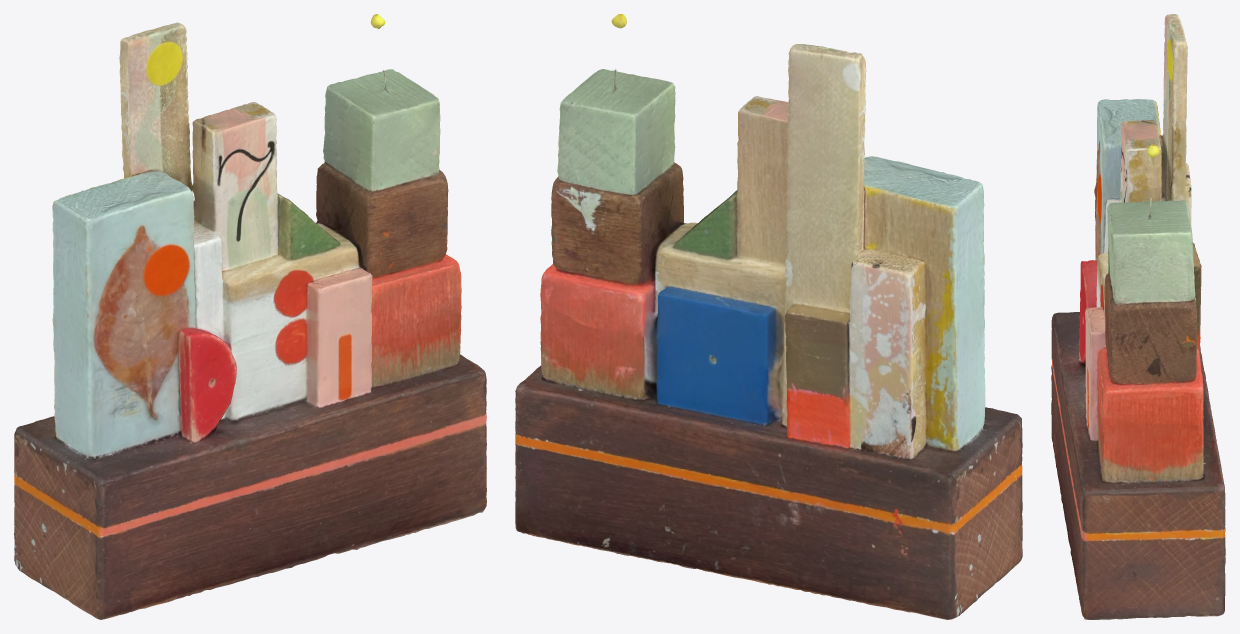
The model's file is Kompleks_07.glb.
3 renders of one model, left to right at view 1: azimuth 30°, elevation 25°; view 2: azimuth 150°, elevation 25°; view 3: azimuth 270°, elevation 25°, orthographic. The views are drawn at different scales.
Parts seen in each view (by area): view 1: Geom; view 2: Geom; view 3: Geom.
Part boxes in pixels (x1,y1,x2,y2): Geom: (14,14,486,619); Geom: (515,14,1022,619); Geom: (1051,14,1225,619).
Bounding box in the file's own units: 0.1286 × 0.1529 × 0.0512.
1 material, 1 textured.
